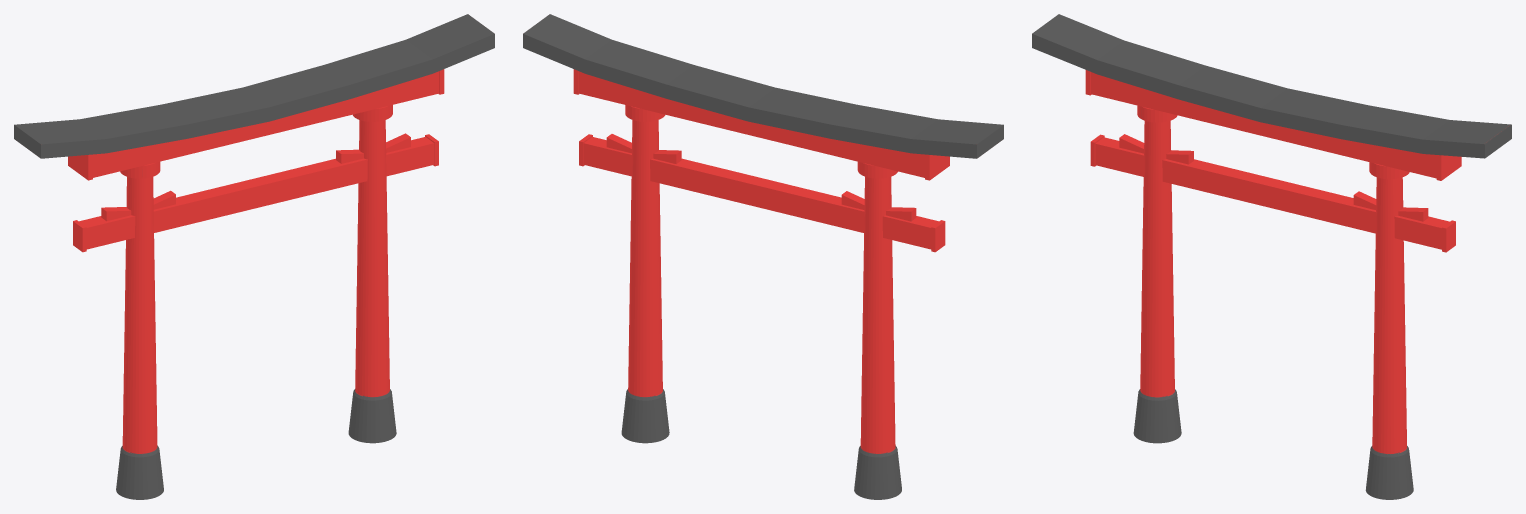
File: toriilow.glb
The picture shows the model from 3 angles, left to right: view 1: azimuth 30°, elevation 25°; view 2: azimuth 150°, elevation 25°; view 3: azimuth 330°, elevation 25°; orthographic projection.
Parts seen in each view (by area): view 1: Object_2; view 2: Object_2; view 3: Object_2.
Part boxes in pixels (x1,y1,x2,y2): Object_2: (14, 14, 494, 499); Object_2: (523, 14, 1003, 499); Object_2: (1032, 14, 1511, 499).
Size of the model in its own units: 13.18 by 10.62 by 1.36.
Materials: 1 (1 with a texture image).
